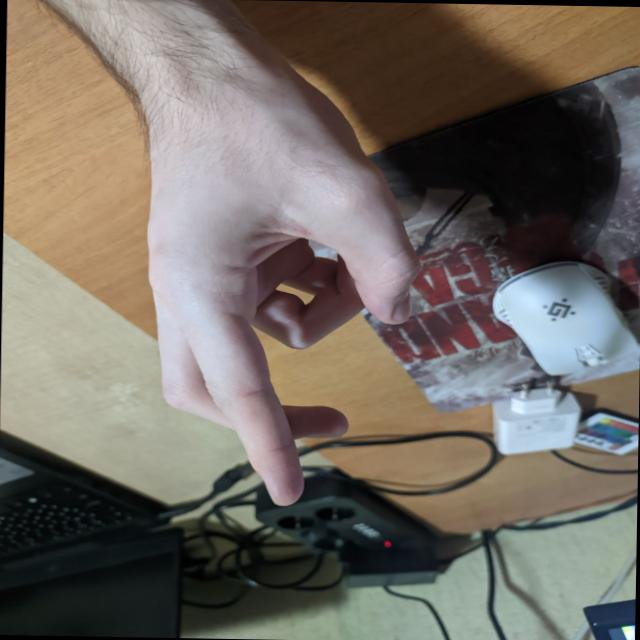b: (78, 119, 422, 504)
